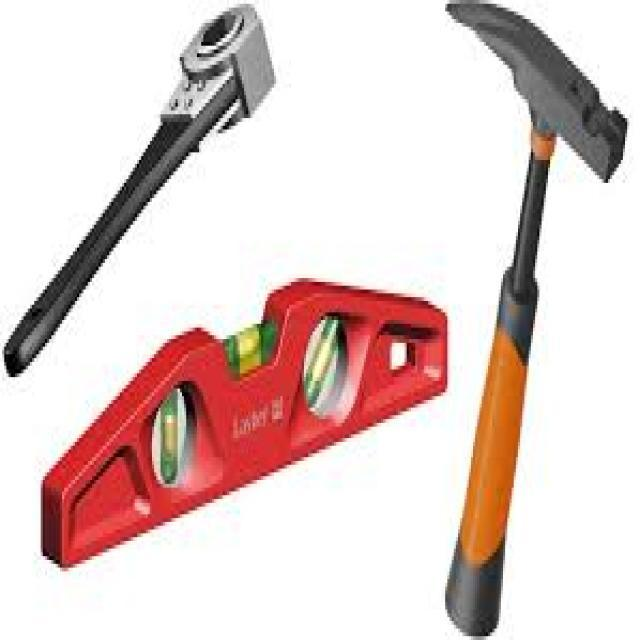hammer: (433, 0, 628, 640)
